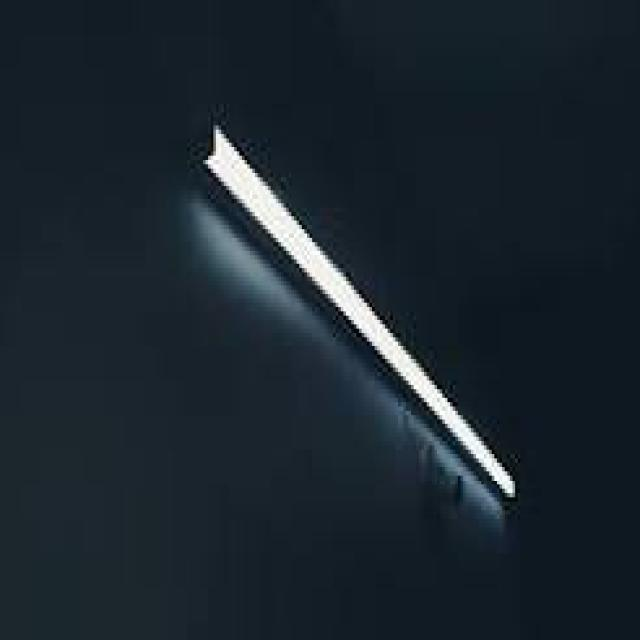tubelight_on: (177, 106, 530, 518)
